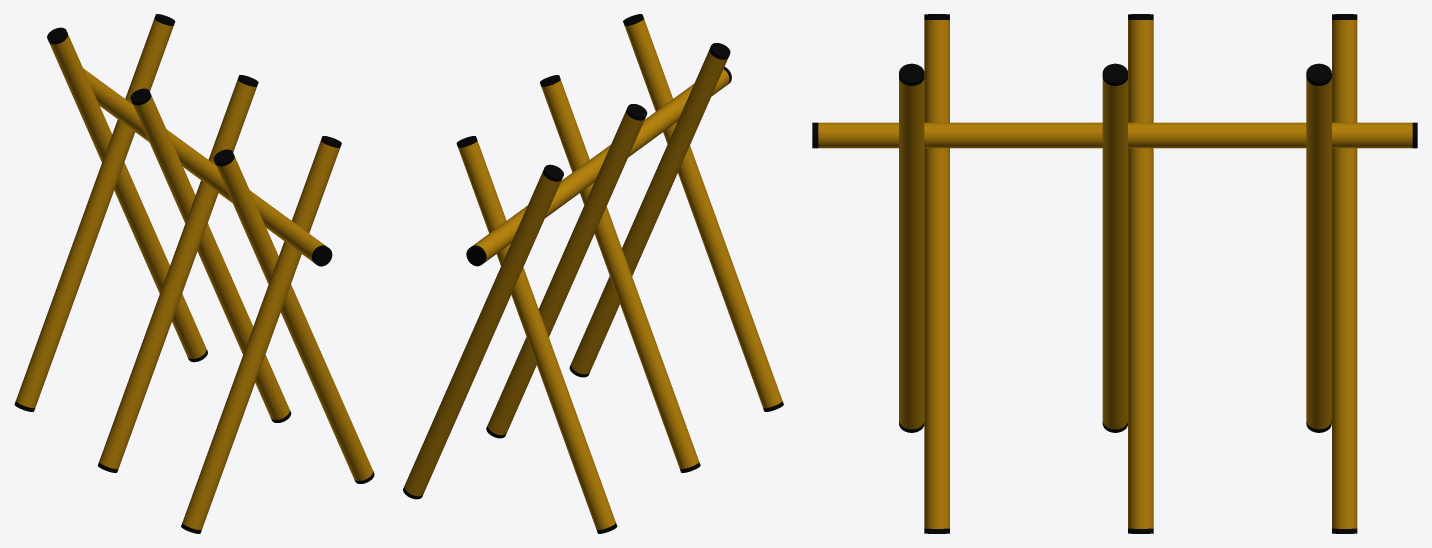
The model's file is sn̓ilíʔtn.fbx.
3 renders of one model, left to right at view 1: azimuth 30°, elevation 25°; view 2: azimuth 150°, elevation 25°; view 3: azimuth 270°, elevation 25°, orthographic. The views are drawn at different scales.
Visible parts, largest first — view 1: sn̓ilíʔtn; view 2: sn̓ilíʔtn; view 3: sn̓ilíʔtn.
Boxes of the visible parts, x1,y1,x2,y2 form: sn̓ilíʔtn: (14, 14, 374, 533); sn̓ilíʔtn: (403, 14, 783, 533); sn̓ilíʔtn: (812, 14, 1417, 533).
Bounding box in the file's own units: 1114 × 1922 × 2377.
